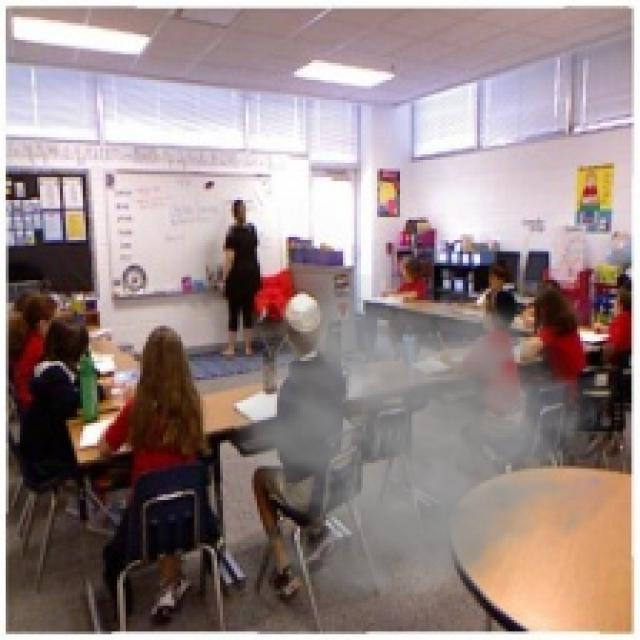smoke: (217, 274, 620, 632)
